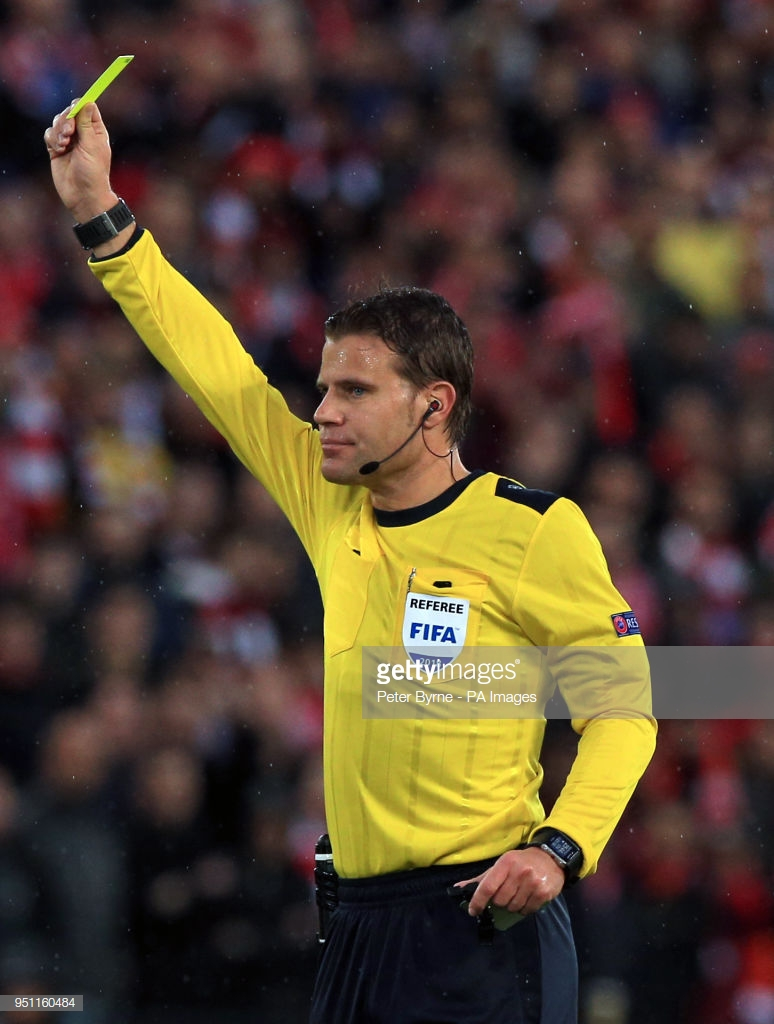yellow_card: (27, 34, 154, 223)
